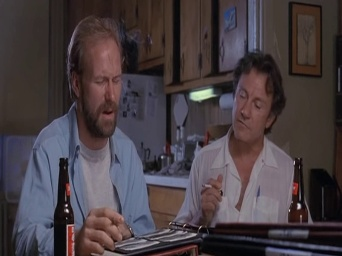smoke: (200, 181, 214, 191)
